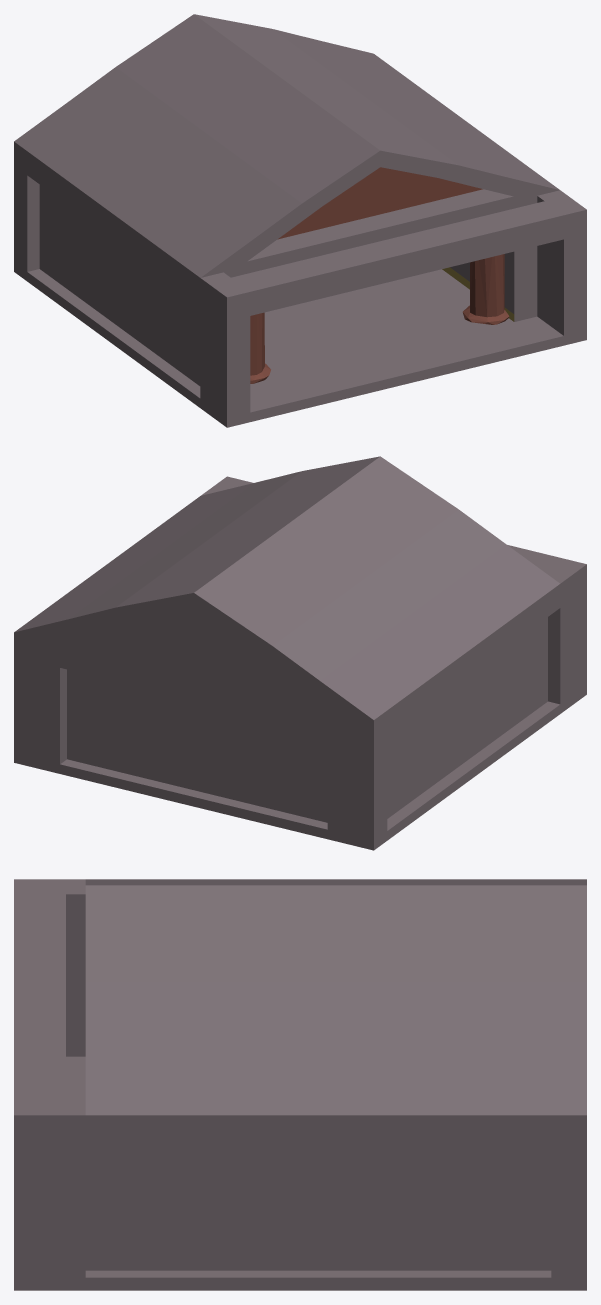
The model's file is museo final nivel 1 .fbx.
3 renders of one model, top to bottom at view 1: azimuth 30°, elevation 25°; view 2: azimuth 150°, elevation 25°; view 3: azimuth 270°, elevation 25°, orthographic. The views are drawn at different scales.
Parts seen in each view (by area): view 1: MUSEO1; view 2: MUSEO1; view 3: MUSEO1.
Part boxes in pixels (x1,y1,x2,y2): MUSEO1: (14,14,586,427); MUSEO1: (14,456,586,850); MUSEO1: (14,879,586,1290).
Bounding box in the file's own units: 963 × 547 × 988.
